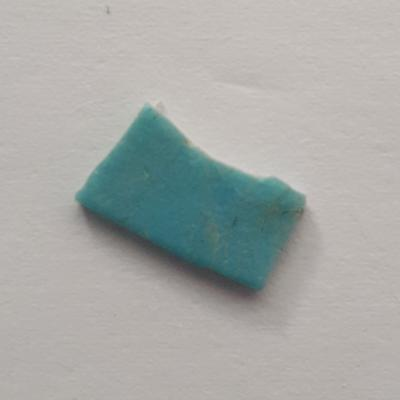plastic: (67, 98, 321, 298)
